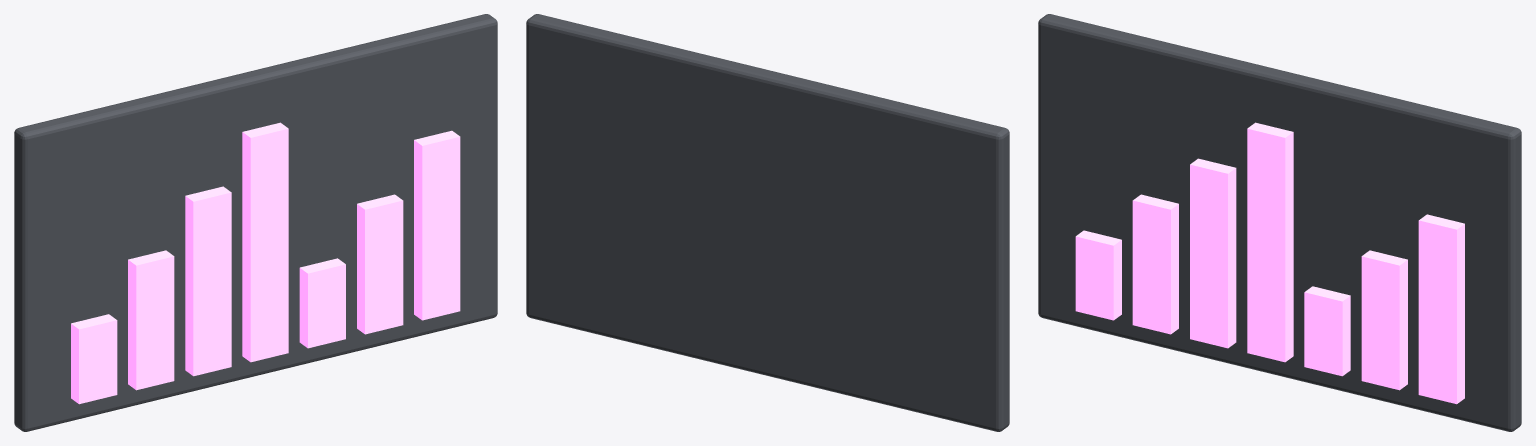
Rendered from neon_sign_bars.glb.
3 views of the same model, side by side, from view 1: azimuth 30°, elevation 25°; view 2: azimuth 150°, elevation 25°; view 3: azimuth 330°, elevation 25° (orthographic).
Parts seen in each view (by area): view 1: GD_neon_sign_bars__m0, GD_neon_sign_bars__m1; view 2: GD_neon_sign_bars__m0; view 3: GD_neon_sign_bars__m0, GD_neon_sign_bars__m1.
Part boxes in pixels (x1=…): GD_neon_sign_bars__m0: x1=14, y1=14, x2=497, y2=431; GD_neon_sign_bars__m1: x1=71, y1=122, x2=460, y2=404; GD_neon_sign_bars__m0: x1=526, y1=14, x2=1009, y2=431; GD_neon_sign_bars__m0: x1=1038, y1=14, x2=1521, y2=431; GD_neon_sign_bars__m1: x1=1075, y1=122, x2=1464, y2=404.
Size of the model in its own units: 1 by 0.6 by 0.07.
